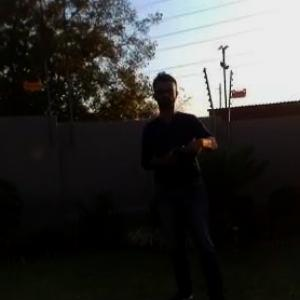follow: (135, 66, 230, 299)
